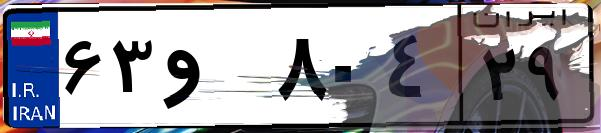0: (330, 28, 385, 110)
2: (475, 38, 525, 113)
3: (110, 28, 158, 98)
4: (385, 28, 445, 110)
6: (57, 26, 110, 100)
8: (270, 28, 330, 110)
9: (525, 38, 570, 115)
و: (158, 20, 270, 120)
